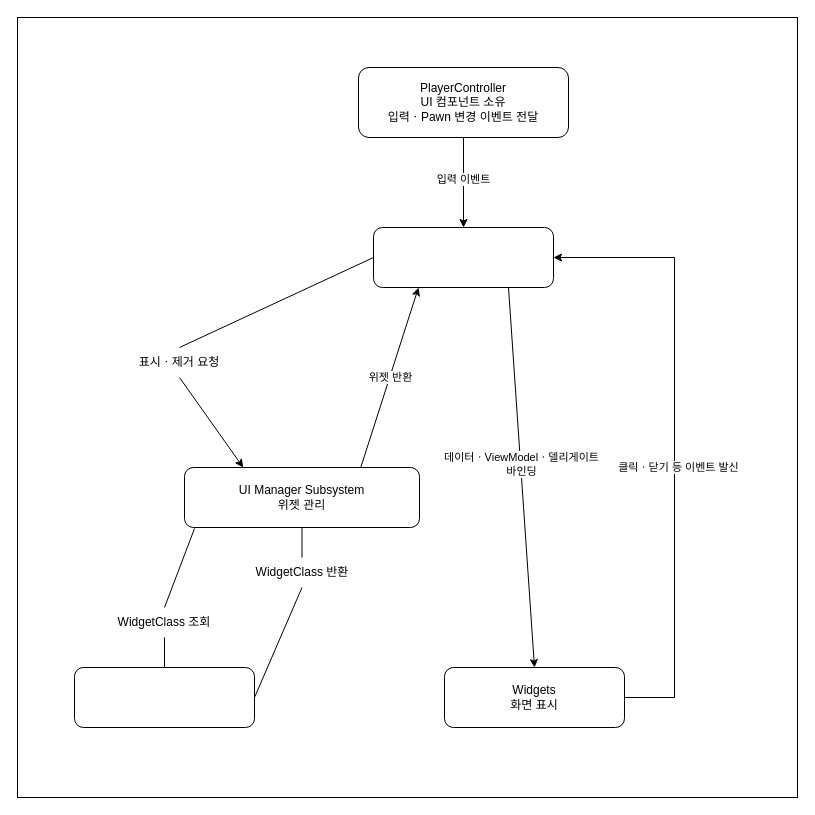
Image size: 815x815. Some labels were removed from this diagram. The box of each missing label's shape, as (x1, y1, x2, y2) in pixels:
UI Component 데이터 관리: (372, 226, 554, 288)
UI Config DataAsset WidgetClass 지정: (74, 666, 254, 728)
